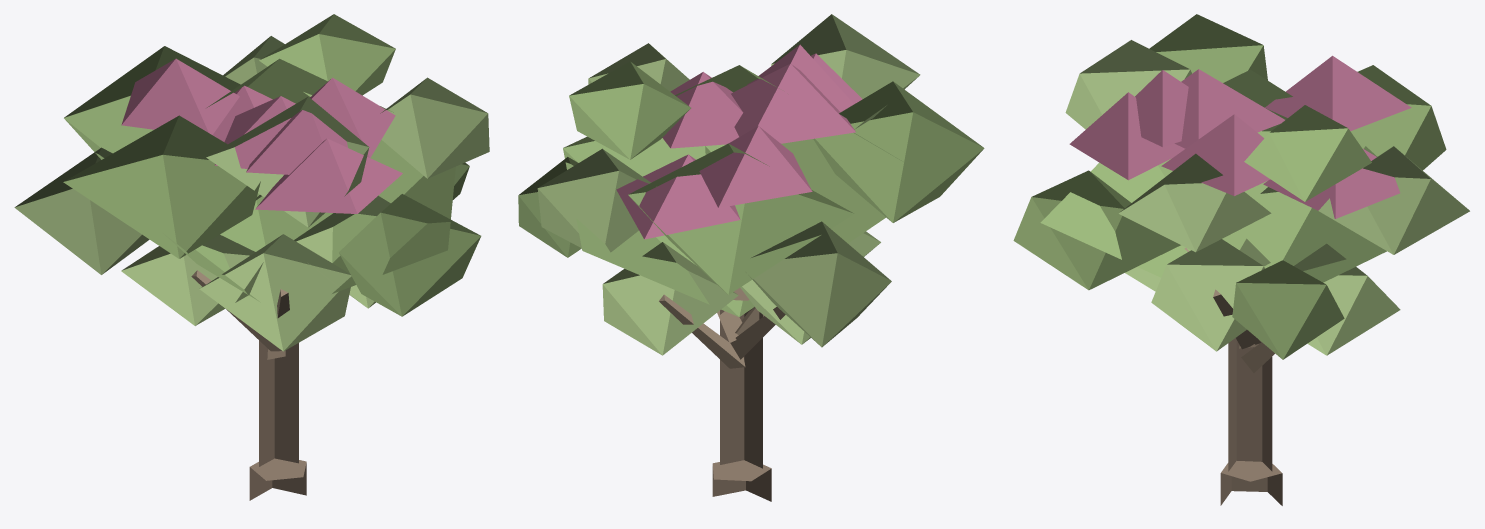
File: tree.temp.plane_maple__bloom.glb
3 renders of one model, left to right at view 1: azimuth 30°, elevation 25°; view 2: azimuth 150°, elevation 25°; view 3: azimuth 270°, elevation 25°, orthographic. The views are drawn at different scales.
Parts seen in each view (by area): view 1: tree.temp.plane_maple__bloom; view 2: tree.temp.plane_maple__bloom; view 3: tree.temp.plane_maple__bloom.
Part boxes in pixels (<box>): tree.temp.plane_maple__bloom: <box>14,14,489,500</box>; tree.temp.plane_maple__bloom: <box>518,14,984,501</box>; tree.temp.plane_maple__bloom: <box>1013,14,1469,505</box>.
Size of the model in its own units: 10.23 by 10.76 by 9.97.
